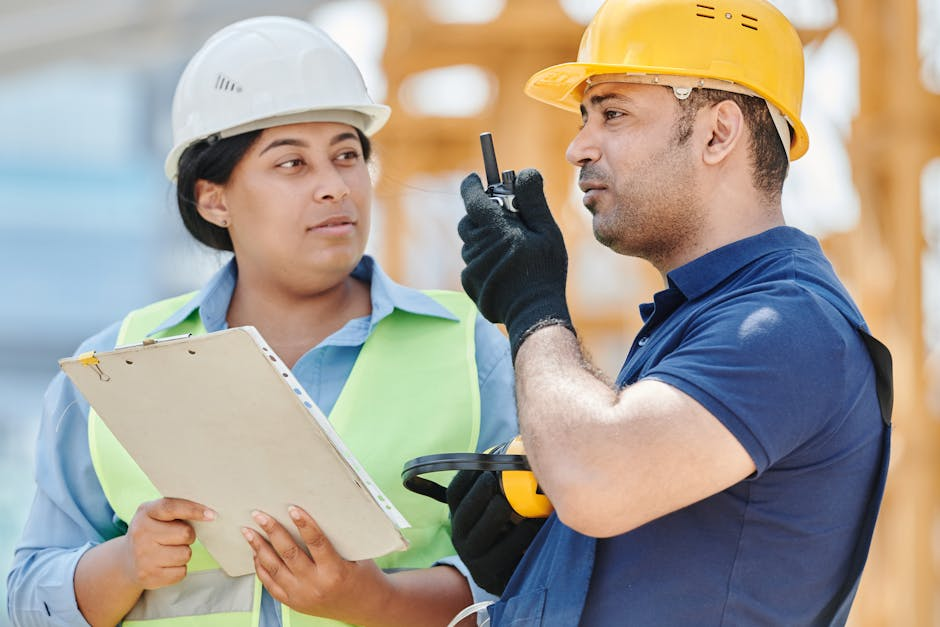safety_helmet: (523, 0, 811, 162), (163, 14, 392, 182)
